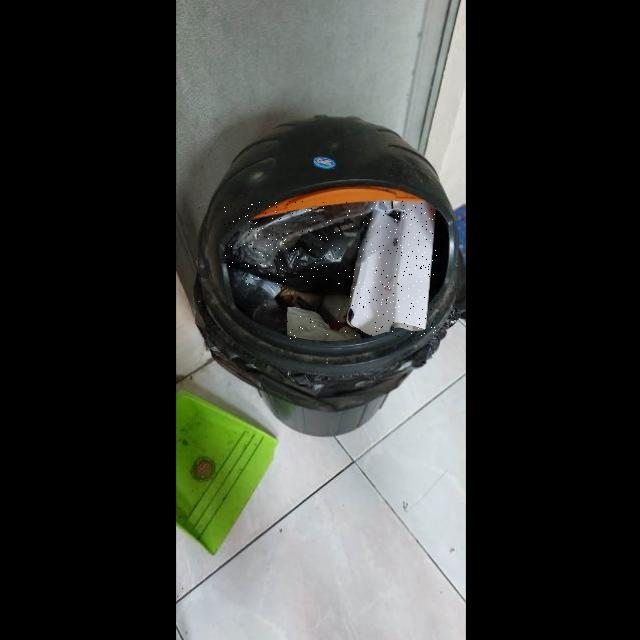paper: (348, 201, 437, 337), (287, 308, 361, 342)
plastic: (224, 201, 393, 286)
